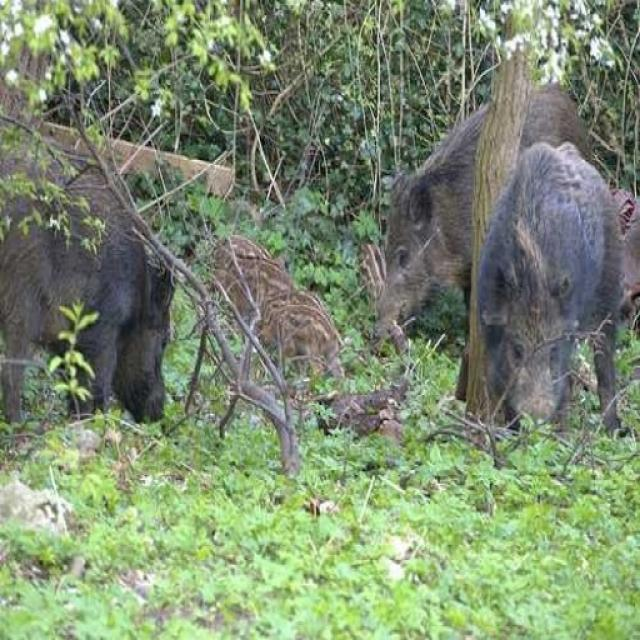pig: (347, 78, 580, 346), (480, 152, 636, 447)
